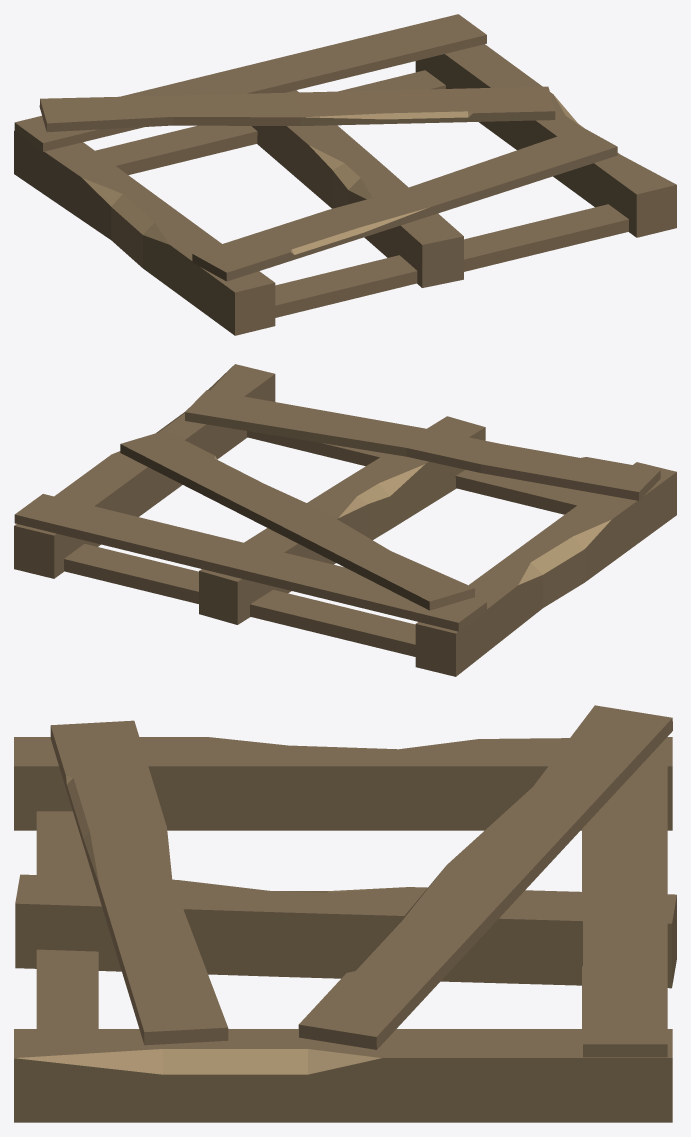
The model's file is pallet_broken.glb.
3 views of the same model, one above another, from view 1: azimuth 30°, elevation 25°; view 2: azimuth 150°, elevation 25°; view 3: azimuth 270°, elevation 25° (orthographic). The views are drawn at different scales.
Parts seen in each view (by area): view 1: prop_pallet_broken; view 2: prop_pallet_broken; view 3: prop_pallet_broken.
Boxes of the visible parts, x1,y1,x2,y2 form: prop_pallet_broken: (14,14,676,335); prop_pallet_broken: (14,364,676,676); prop_pallet_broken: (14,705,676,1122).
Bounding box in the file's own units: 1.2 × 0.1776 × 1.04.
